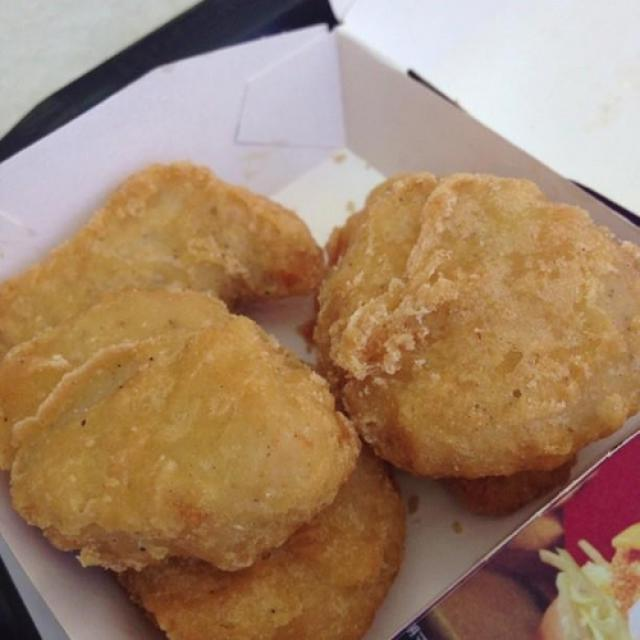Chicken nugget: (4, 151, 640, 640)
